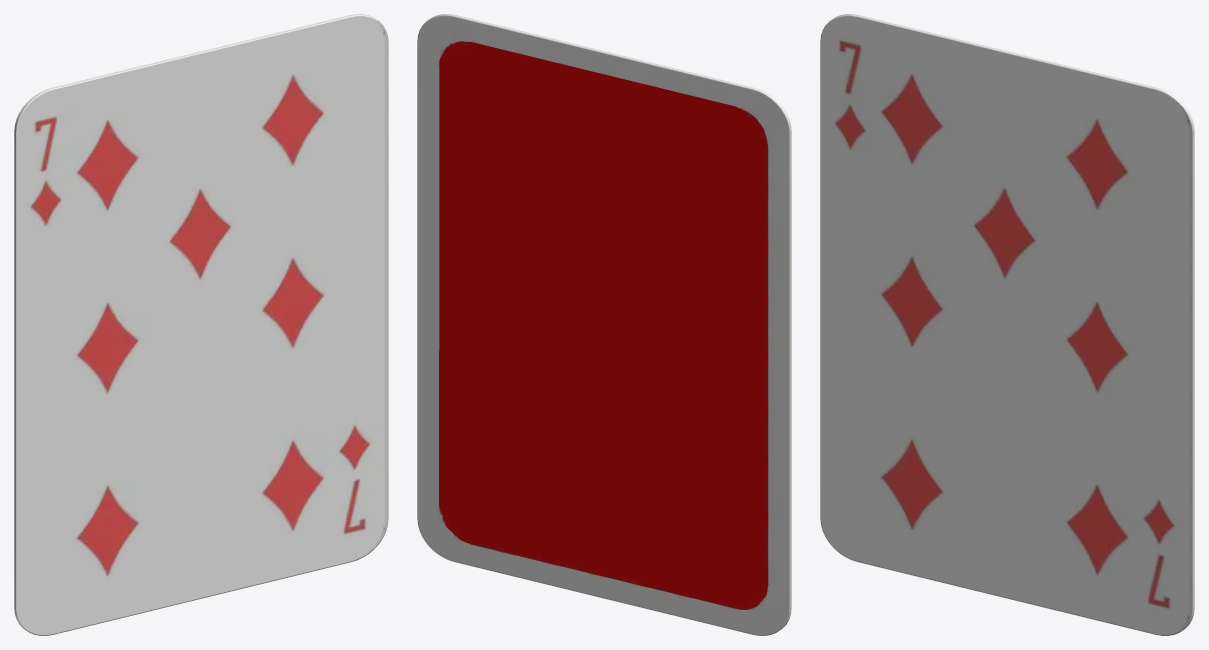
File: diamonds_7.glb
3 views of the same model, side by side, from view 1: azimuth 30°, elevation 25°; view 2: azimuth 150°, elevation 25°; view 3: azimuth 330°, elevation 25° (orthographic).
Visible parts, largest first — view 1: defaultMaterial.029; view 2: defaultMaterial.029; view 3: defaultMaterial.029.
Boxes of the visible parts, left/top/right/bottom form: defaultMaterial.029: left=14, top=14, right=388, bottom=635; defaultMaterial.029: left=417, top=14, right=791, bottom=635; defaultMaterial.029: left=820, top=14, right=1194, bottom=635.
Bounding box in the file's own units: 0.1408 × 0.1972 × 0.00111.
Materials: 1 (1 with a texture image).
